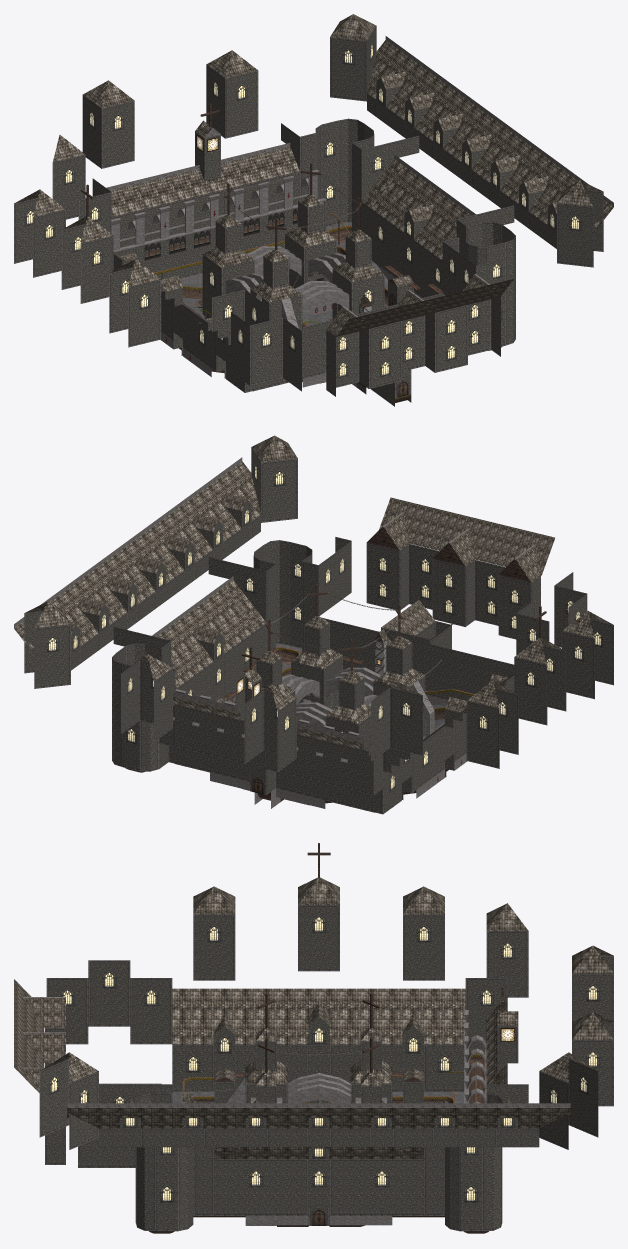
File: cathedral_skatepark.glb
3 views of the same model, one above another, from view 1: azimuth 30°, elevation 25°; view 2: azimuth 150°, elevation 25°; view 3: azimuth 270°, elevation 25° (orthographic). The views are drawn at different scales.
Parts seen in each view (by area): view 1: MainGeo, OutOfBounds, Rails2; view 2: MainGeo, OutOfBounds; view 3: MainGeo, OutOfBounds.
Part boxes in pixels (x1,y1,x2,y2): MainGeo: (14,26,603,406); OutOfBounds: (14,14,613,337); Rails2: (113,194,326,252); MainGeo: (24,447,613,814); OutOfBounds: (14,435,612,758); MainGeo: (39,843,613,1233); OutOfBounds: (14,877,613,1158).
Size of what is drawn, in the model's own units: 104 by 51.04 by 114.
Materials: 36 (36 with a texture image).
